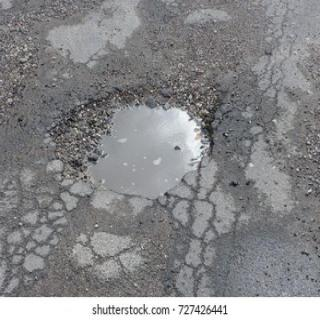pothole: (50, 86, 211, 200)
